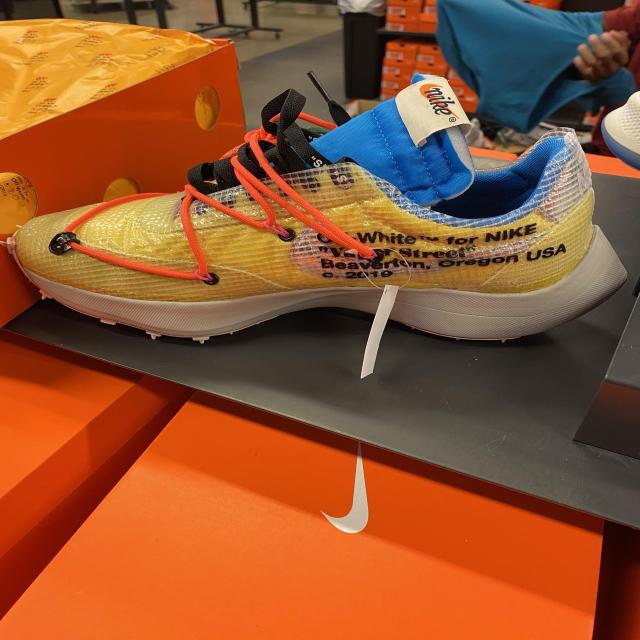shoes: (14, 62, 620, 381)
